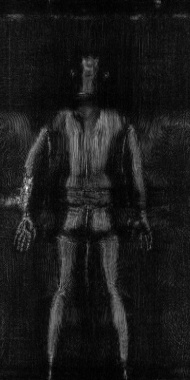gun: (6, 171, 35, 207)
